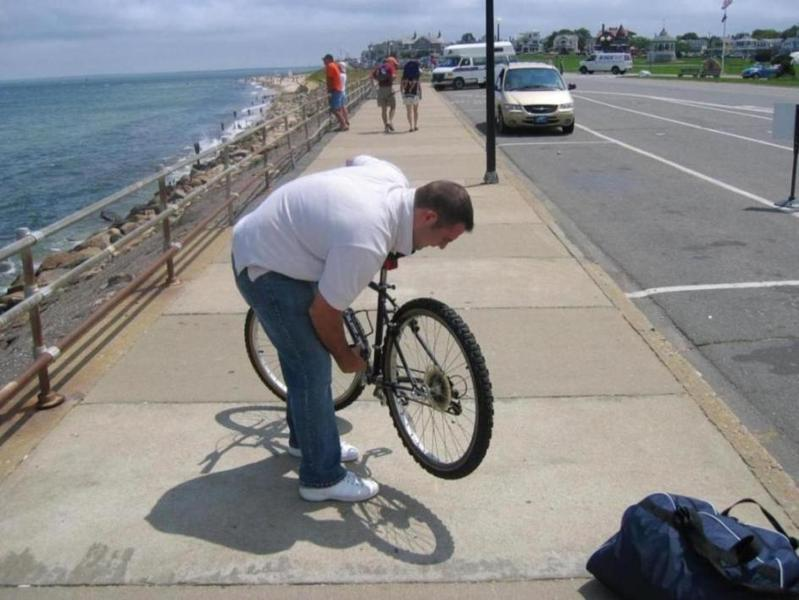person: (229, 154, 476, 507)
